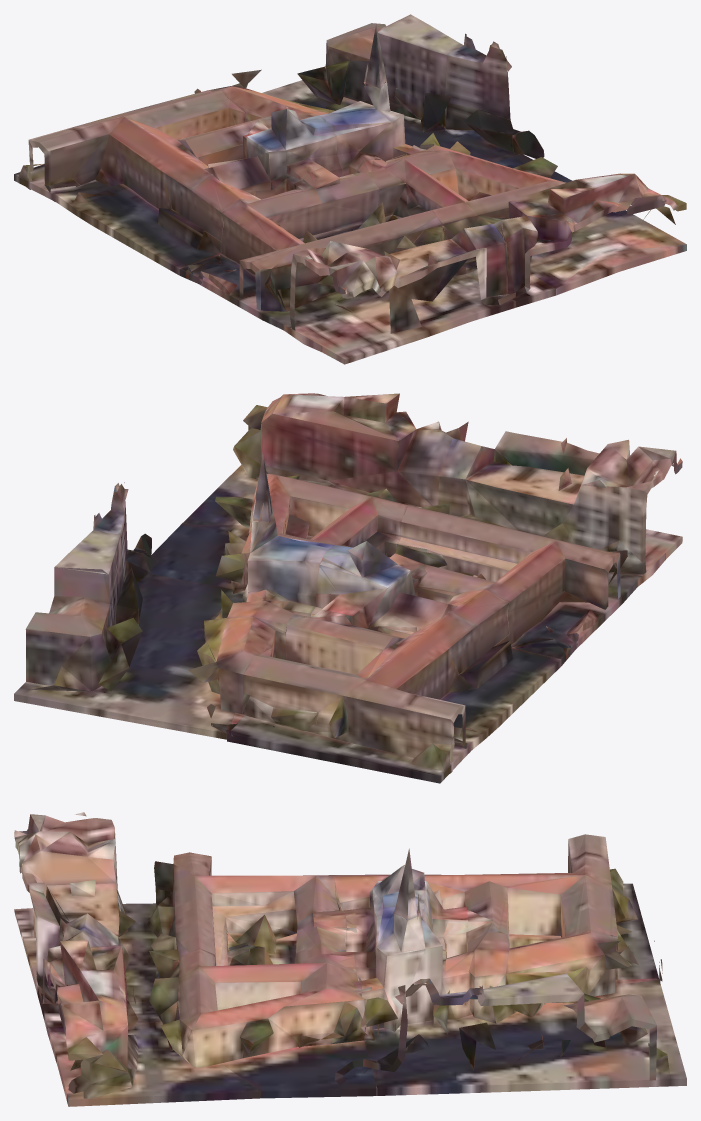
The picture shows the model from 3 angles, top to bottom: view 1: azimuth 30°, elevation 25°; view 2: azimuth 150°, elevation 25°; view 3: azimuth 270°, elevation 25°; orthographic projection. The views are drawn at different scales.
Parts seen in each view (by area): view 1: Mesh_0; view 2: Mesh_0; view 3: Mesh_0.
Part boxes in pixels (x1,y1,x2,y2): Mesh_0: (14,14,686,364); Mesh_0: (14,393,682,783); Mesh_0: (14,812,686,1106).
Bounding box in the file's own units: 133 × 57.28 × 165.
Materials: 1 (1 with a texture image).
